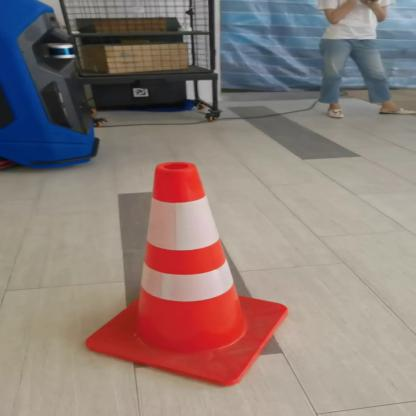cone: (64, 154, 301, 393)
